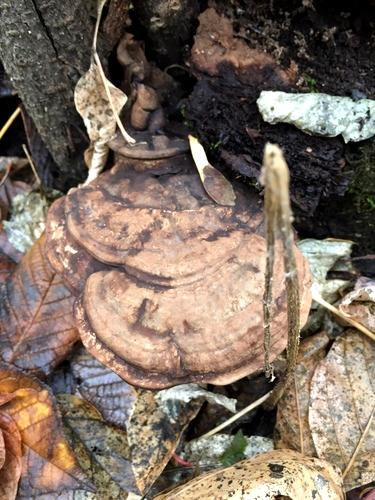Ganoderma - Fruit Body: (40, 126, 318, 387)
